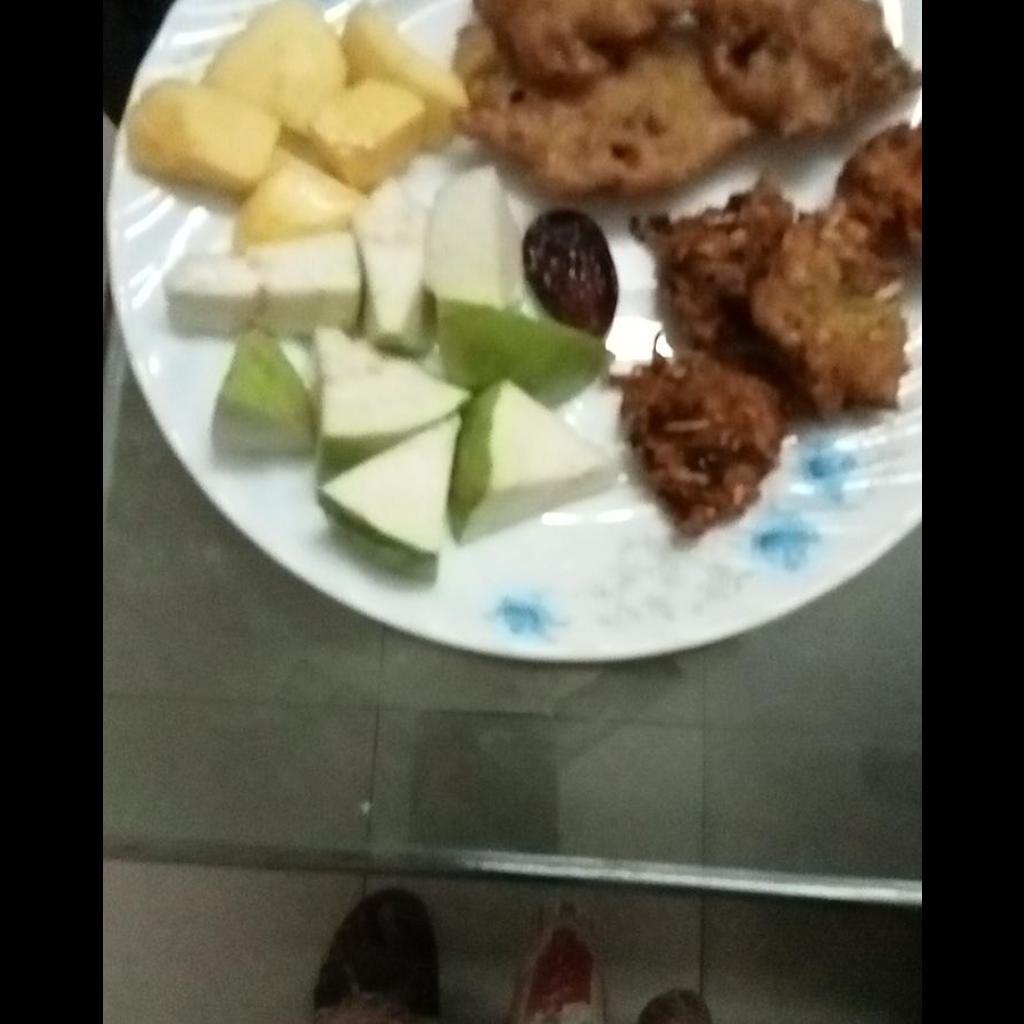beguni: (453, 2, 920, 198)
dates: (520, 206, 621, 338)
guava: (155, 172, 616, 572)
pineapple: (120, 1, 461, 236)
piyaju: (600, 121, 919, 543)
